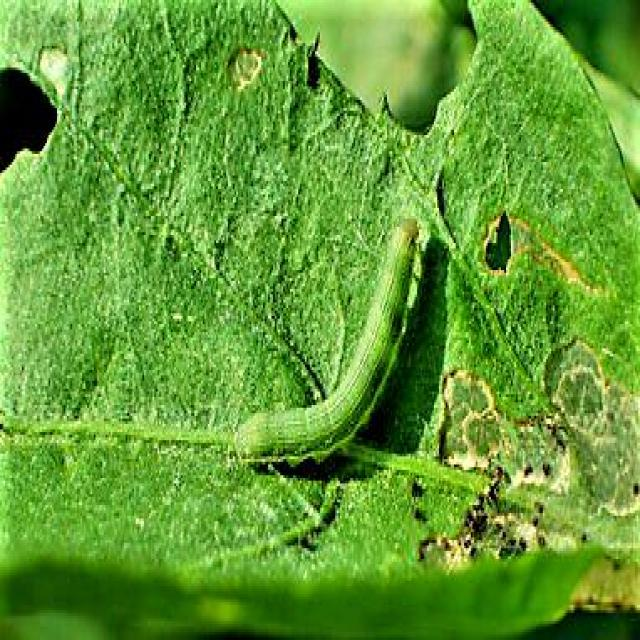Armyworm: (222, 153, 443, 518)
Armyworm_damage: (1, 35, 58, 238)
